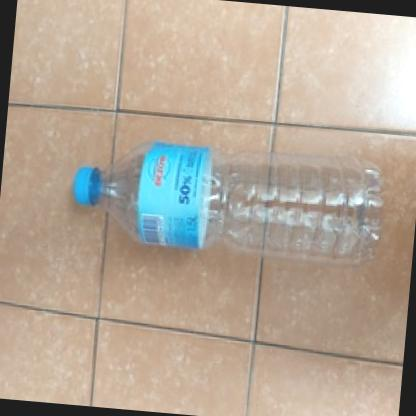plastic_bottles: (68, 133, 388, 266)
